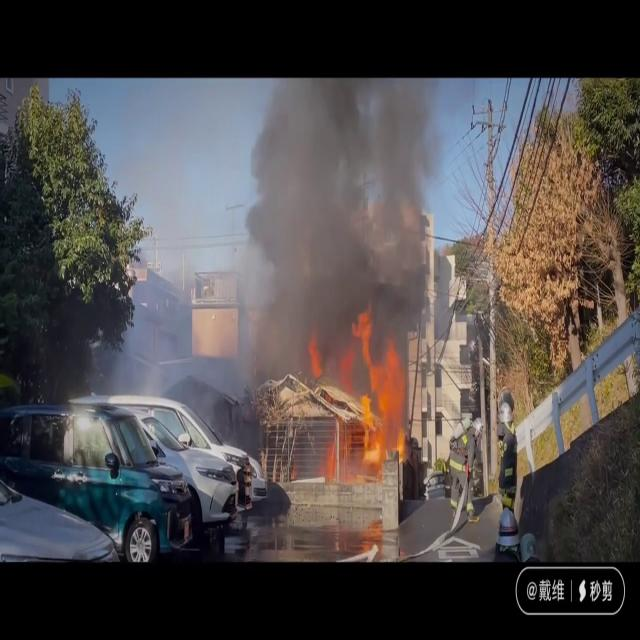Fire: (324, 316, 406, 466)
Smoke: (223, 78, 446, 374)
